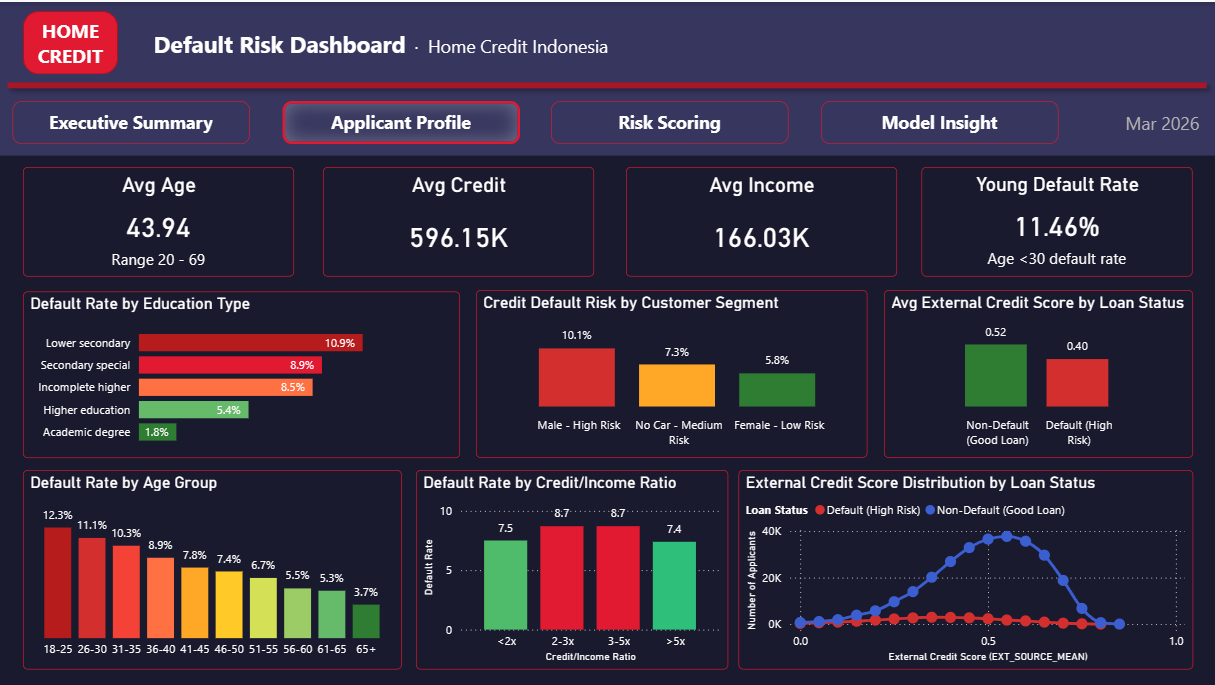

Layout of this report page (visuals, bound fields, positions):
{"tool":"powerbi","page":{"name":"Applicant Profile","canvas":[1280,720],"ordinal":1},"visuals":[{"type":"shape","box":[0,0,1280,161.7],"z":0},{"type":"shape","box":[0,26.7,1280,121.7],"z":1000},{"type":"actionButton","title":"Executive Summary","box":[298.2,103.9,250,45],"z":2000},{"type":"actionButton","title":"Executive Summary","box":[14.9,103.9,250,45],"z":3000},{"type":"actionButton","title":"Executive Summary","box":[581.5,103.9,250,45],"z":4000},{"type":"actionButton","title":"Executive Summary","box":[864.9,103.9,250,45],"z":5000},{"type":"shape","box":[25,10,100,66.7],"z":6000},{"type":"textbox","box":[145,21.7,513.3,43.3],"z":7000},{"type":"textbox","box":[1165,108.3,103.3,35],"z":8000},{"type":"columnChart","title":"Credit Default Risk by Customer Segment","fields":{"Y":["pbi_applicant_profile.Default Rate"],"Category":["pbi_applicant_profile.Customer_Segment_Label"]},"box":[501.7,303.3,411.7,176.7],"z":9000},{"type":"columnChart","title":"Avg External Credit Score by Loan Status","fields":{"Y":["Avg(pbi_applicant_profile.EXT_SOURCE_MEAN)"],"Category":["pbi_risk_scoring.Loan_Status"]},"box":[931.7,303.3,325,176.7],"z":10000},{"type":"card","title":"Avg Age","fields":{"Values":["pbi_applicant_profile.Avg Age"]},"box":[25,173.3,285,115],"z":11000},{"type":"card","title":"Young Default Rate","fields":{"Values":["pbi_applicant_profile.Young Default Rate"]},"box":[971.7,173.3,285,115],"z":12000},{"type":"card","title":"Avg Credit","fields":{"Values":["pbi_applicant_profile.Avg Credit"]},"box":[341.7,173.3,285,115],"z":13000},{"type":"card","title":"Avg Income","fields":{"Values":["pbi_applicant_profile.Avg Income"]},"box":[660,173.3,285,115],"z":14000},{"type":"clusteredColumnChart","fields":{"Category":["pbi_applicant_profile.CIR_Group"],"Y":["pbi_applicant_profile.Default Rate"]},"box":[438.3,493.3,328.3,210],"z":15000},{"type":"clusteredColumnChart","title":"Default Rate by Age Group","fields":{"Category":["pbi_applicant_profile.AGE_GROUP"],"Y":["pbi_applicant_profile.Default Rate"]},"box":[25,493.3,398.3,210],"z":16000},{"type":"barChart","title":"Default Rate by Education Type","fields":{"Category":["pbi_applicant_profile.NAME_EDUCATION_TYPE"],"Y":["pbi_applicant_profile.Default Rate"]},"box":[25,305,460,175],"z":17000},{"type":"lineChart","title":"External Credit Score Distribution by Loan Status","fields":{"Category":["pbi_applicant_profile.EXT_SOURCE_MEAN (bins)"],"Y":["CountNonNull(pbi_applicant_profile.SK_ID_CURR)"],"Series":["pbi_risk_scoring.Loan_Status"]},"box":[778.3,493.3,478.3,210],"z":18000}]}

Visuals, with their boxes in screenshot pixels (x1, y1, x2, y2), scaled from the page's 1280x720 canvas onto the 1215x685 screenshot:
shape: [x1=0, y1=0, x2=1214, y2=154]
shape: [x1=0, y1=25, x2=1214, y2=141]
"Executive Summary" actionButton: [x1=283, y1=99, x2=520, y2=142]
"Executive Summary" actionButton: [x1=14, y1=99, x2=251, y2=142]
"Executive Summary" actionButton: [x1=552, y1=99, x2=789, y2=142]
"Executive Summary" actionButton: [x1=821, y1=99, x2=1058, y2=142]
shape: [x1=24, y1=10, x2=119, y2=73]
textbox: [x1=138, y1=21, x2=625, y2=62]
textbox: [x1=1106, y1=103, x2=1204, y2=136]
"Credit Default Risk by Customer Segment" columnChart: [x1=476, y1=289, x2=867, y2=457]
"Avg External Credit Score by Loan Status" columnChart: [x1=884, y1=289, x2=1193, y2=457]
"Avg Age" card: [x1=24, y1=165, x2=294, y2=274]
"Young Default Rate" card: [x1=922, y1=165, x2=1193, y2=274]
"Avg Credit" card: [x1=324, y1=165, x2=595, y2=274]
"Avg Income" card: [x1=626, y1=165, x2=897, y2=274]
clusteredColumnChart - pbi_applicant_profile.CIR_Group x pbi_applicant_profile.Default Rate: [x1=416, y1=469, x2=728, y2=669]
"Default Rate by Age Group" clusteredColumnChart: [x1=24, y1=469, x2=402, y2=669]
"Default Rate by Education Type" barChart: [x1=24, y1=290, x2=460, y2=457]
"External Credit Score Distribution by Loan Status" lineChart: [x1=739, y1=469, x2=1193, y2=669]
